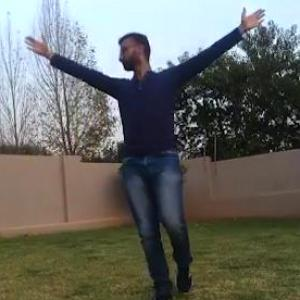takeoff: (22, 0, 239, 299)
